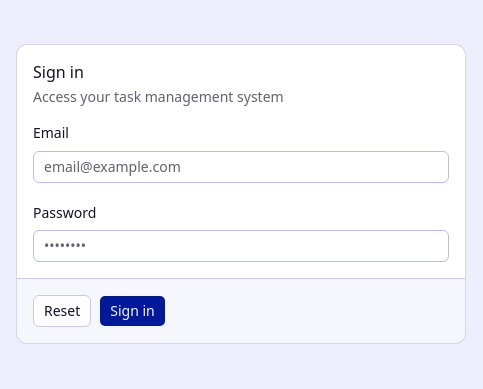
Test: LoginPage › shows validation errors on empty submit
Click the button "Sign in" at (133, 311), box [99, 295, 166, 327]
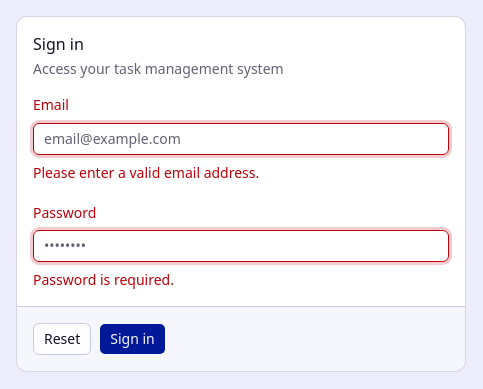
Result: the text "Please enter a valid email address." is shown 2 times at [33, 162, 259, 182]; [33, 270, 174, 289]
